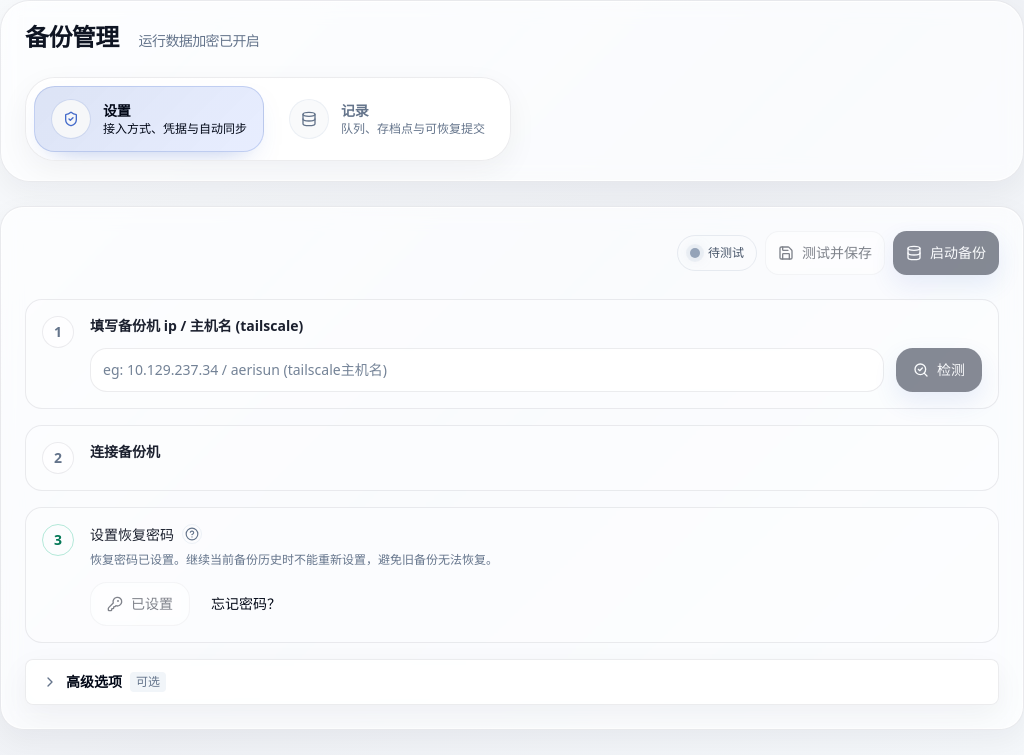
Test: BackupsPage usability › shows backup configuration test status, remote path, and latency
The width and height of the screenshot is (1024, 755).
Type "backup.example.com" into the field with placeholder "eg: 10.129.237.34 / aerisun (tailscale主机名)" at [487, 370], box [90,348,884,392]
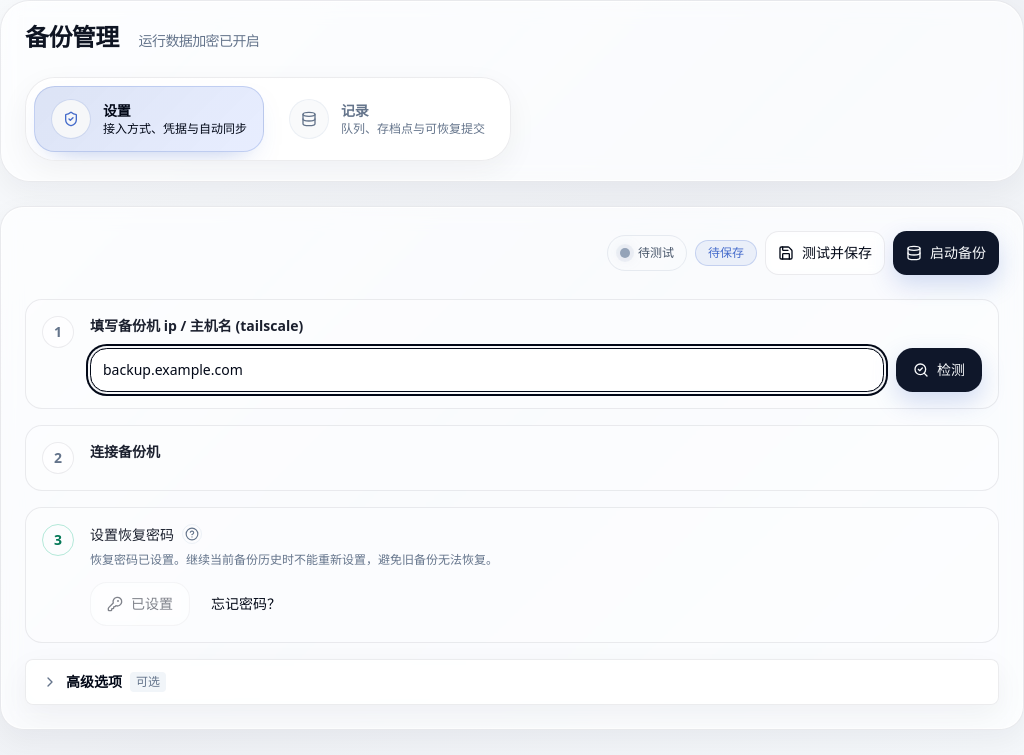
Click the button "检测" at [939, 370], box [896,348,982,392]
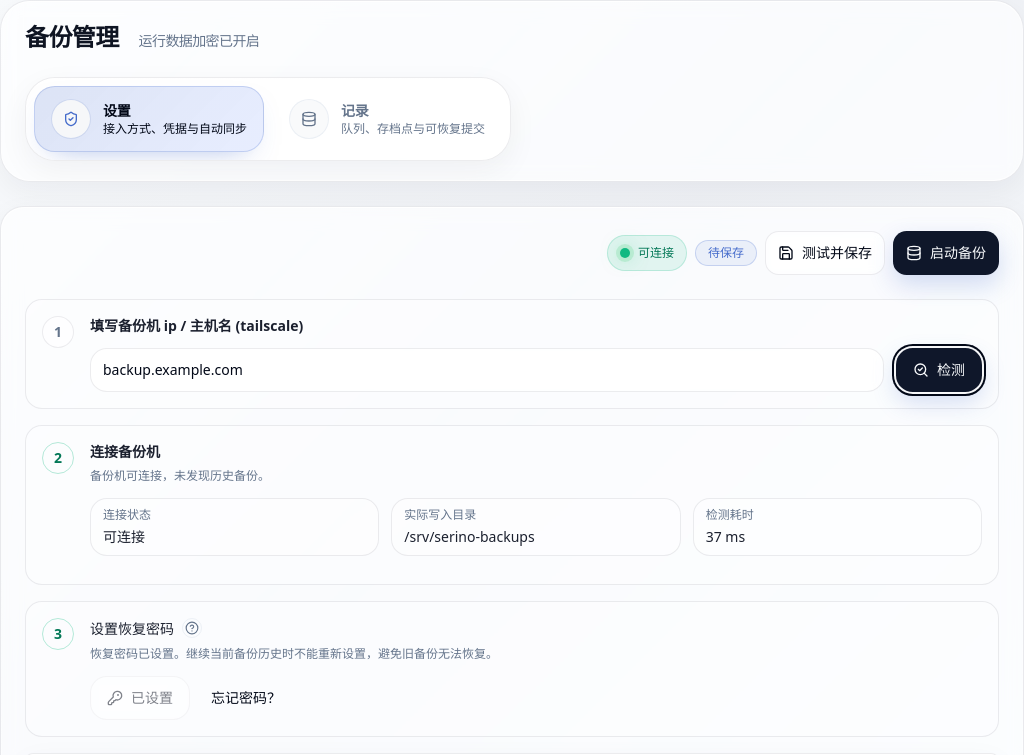
Expected: the text "可连接" next to "待保存" is shown, [638,244,674,261]
Expected: the text "/srv/serino-backups" is shown, [404,527,535,546]
Expected: the text "37 ms" is shown, [706,527,745,546]
